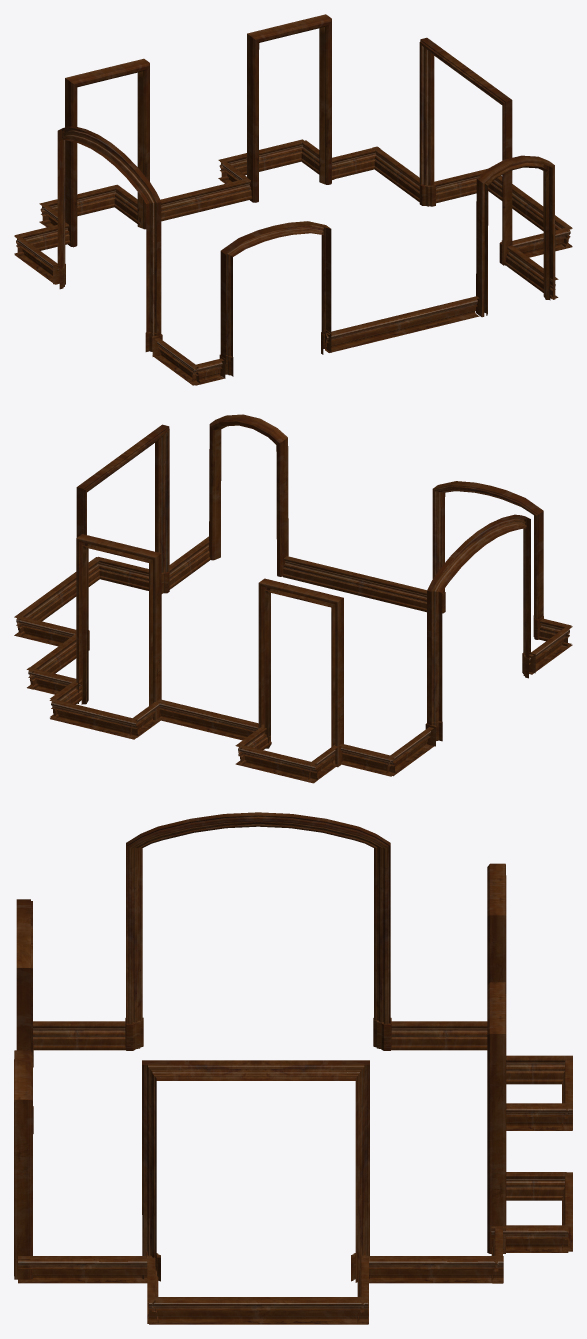
File: Kitchen_GEO_GRP1_Wood_Trim_01.obj
3 views of the same model, one above another, from view 1: azimuth 30°, elevation 25°; view 2: azimuth 150°, elevation 25°; view 3: azimuth 270°, elevation 25° (orthographic). The views are drawn at different scales.
Parts seen in each view (by area): view 1: Kitchen_GEO_GRP1_Wood_Trim_01; view 2: Kitchen_GEO_GRP1_Wood_Trim_01; view 3: Kitchen_GEO_GRP1_Wood_Trim_01.
Part boxes in pixels (x1,y1,x2,y2): Kitchen_GEO_GRP1_Wood_Trim_01: (14,14,572,385); Kitchen_GEO_GRP1_Wood_Trim_01: (14,414,572,783); Kitchen_GEO_GRP1_Wood_Trim_01: (14,812,572,1324).
Size of the model in its own units: 8.68 by 3.45 by 7.33.
Materials: 1 (1 with a texture image).
